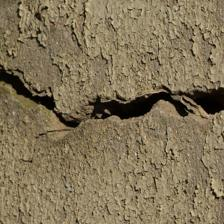Crack: (7, 80, 75, 145), (42, 129, 117, 179)
